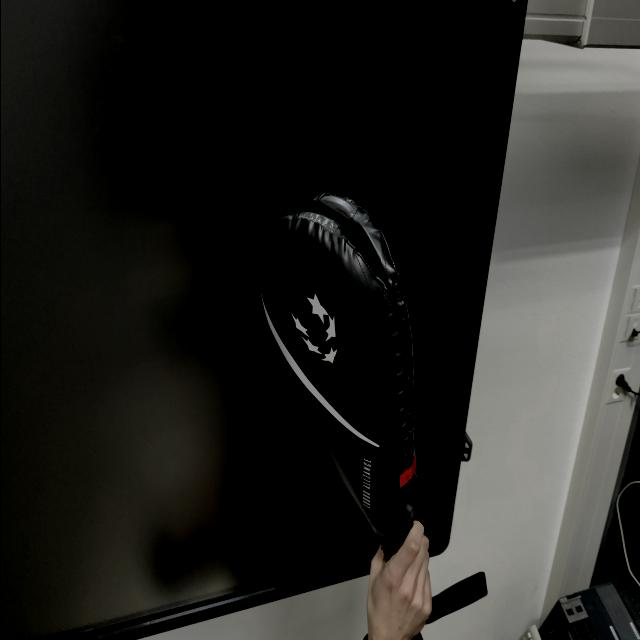paddle: (254, 188, 418, 558)
